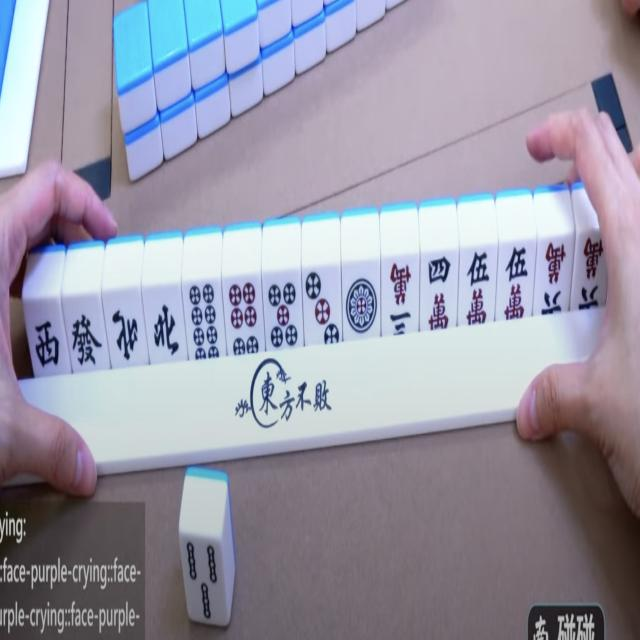fa: (64, 294, 110, 373)
m3: (384, 258, 419, 338)
m4: (419, 251, 457, 331), (534, 238, 572, 318)
m5: (459, 246, 497, 326), (499, 242, 536, 323)
m6: (576, 230, 604, 310)
north: (103, 290, 149, 370), (144, 287, 188, 364)
s3: (182, 531, 221, 625)
t1: (340, 260, 380, 341)
t3: (302, 267, 344, 348)
t5: (262, 270, 304, 352)
t6: (223, 275, 267, 356)
t8: (183, 279, 227, 362)
west: (26, 300, 72, 376)
